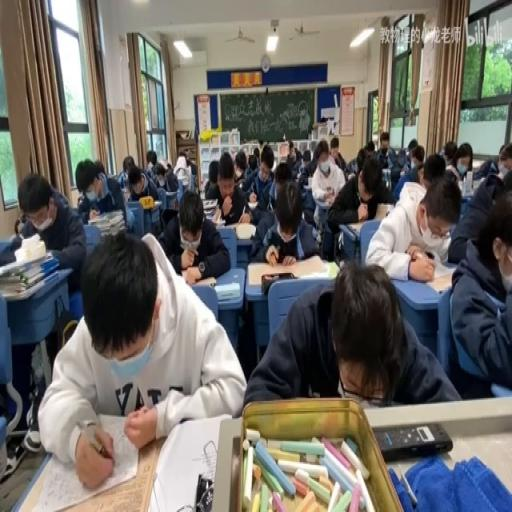calculator: (410, 262, 458, 294), (289, 252, 337, 277), (343, 216, 388, 238), (214, 282, 240, 300), (234, 222, 256, 240), (373, 202, 390, 222), (301, 182, 314, 208), (190, 273, 217, 285), (469, 176, 485, 192), (314, 195, 332, 209), (382, 166, 391, 190), (211, 205, 223, 222), (143, 199, 162, 208), (201, 199, 217, 208), (247, 199, 258, 209)
paper: (41, 226, 245, 482), (246, 262, 458, 408), (447, 185, 511, 398), (366, 170, 460, 282), (4, 172, 86, 292), (156, 186, 229, 279), (250, 175, 320, 264), (77, 156, 128, 232), (309, 145, 344, 232), (473, 141, 510, 183), (151, 158, 180, 192), (422, 151, 446, 192), (346, 142, 370, 178), (0, 236, 19, 269), (375, 132, 392, 168), (232, 150, 248, 184), (205, 158, 218, 199), (286, 145, 302, 178), (442, 141, 458, 168), (184, 154, 198, 184), (14, 216, 32, 236), (274, 162, 290, 184), (315, 140, 329, 164), (258, 142, 270, 169), (122, 155, 134, 179), (332, 152, 346, 172), (145, 148, 157, 171), (406, 138, 418, 161), (394, 145, 406, 168), (247, 152, 258, 172), (94, 158, 104, 173), (366, 138, 375, 154), (498, 142, 507, 158), (117, 171, 126, 186), (302, 150, 310, 164), (165, 160, 172, 170)
person: (374, 422, 451, 461), (194, 471, 214, 509), (261, 270, 294, 293), (424, 250, 434, 258)
